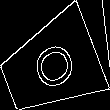O_SW: (23, 36, 78, 96)
